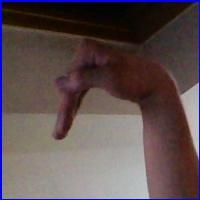del: (50, 36, 170, 152)
